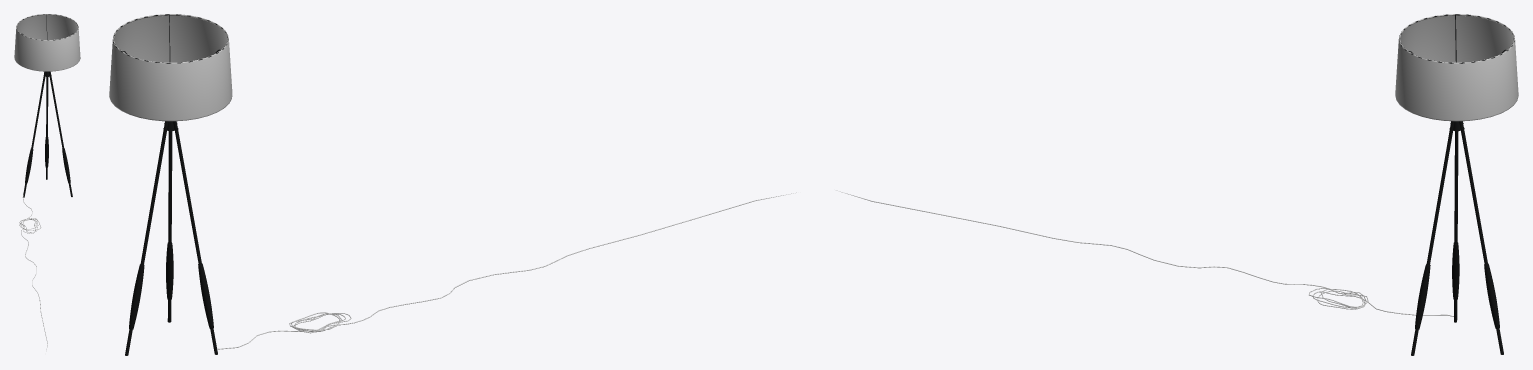
Rendered from NightLight001.FBX.
3 renders of one model, left to right at view 1: azimuth 30°, elevation 25°; view 2: azimuth 150°, elevation 25°; view 3: azimuth 270°, elevation 25°, orthographic. The views are drawn at different scales.
Parts seen in each view (by area): view 1: w; view 2: w; view 3: w.
Part boxes in pixels (x1,y1,x2,y2): w: (14,14,80,351); w: (109,14,796,355); w: (836,14,1518,355).
Bounding box in the file's own units: 6.64 × 5.23 × 10.66.
